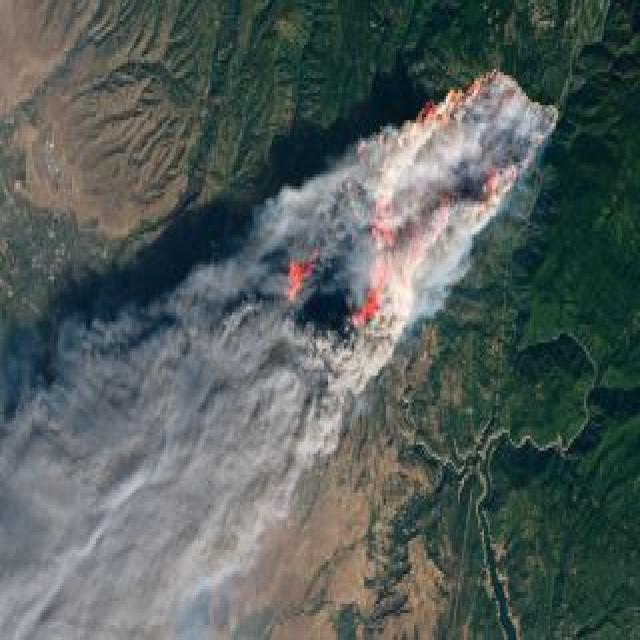Fire: (354, 286, 397, 354), (272, 246, 320, 304)
Smoke: (0, 95, 506, 640)
